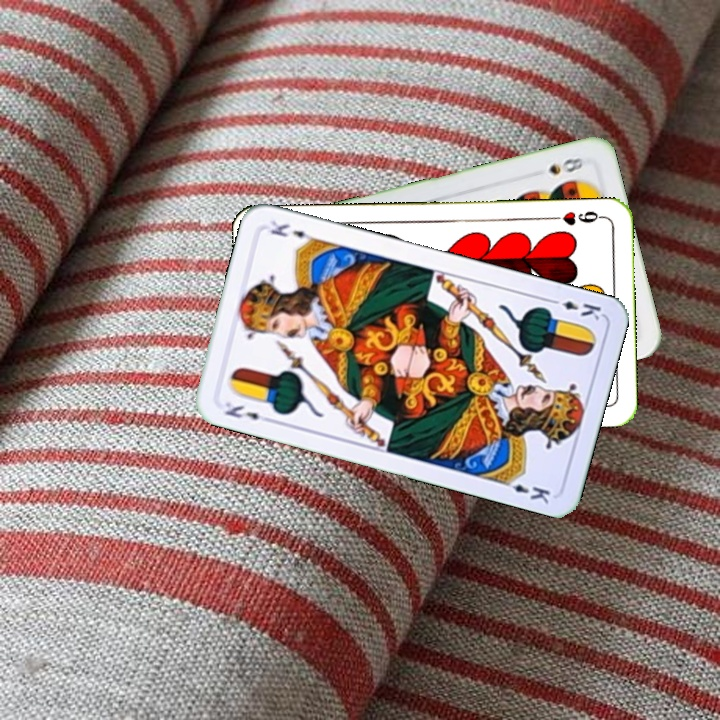EK: (545, 294, 604, 323), (221, 398, 274, 425)
H9: (547, 206, 607, 228)
S8: (544, 153, 586, 178)
